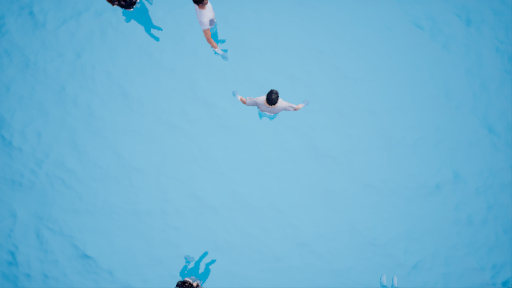person: (228, 83, 316, 128), (189, 1, 238, 65)
